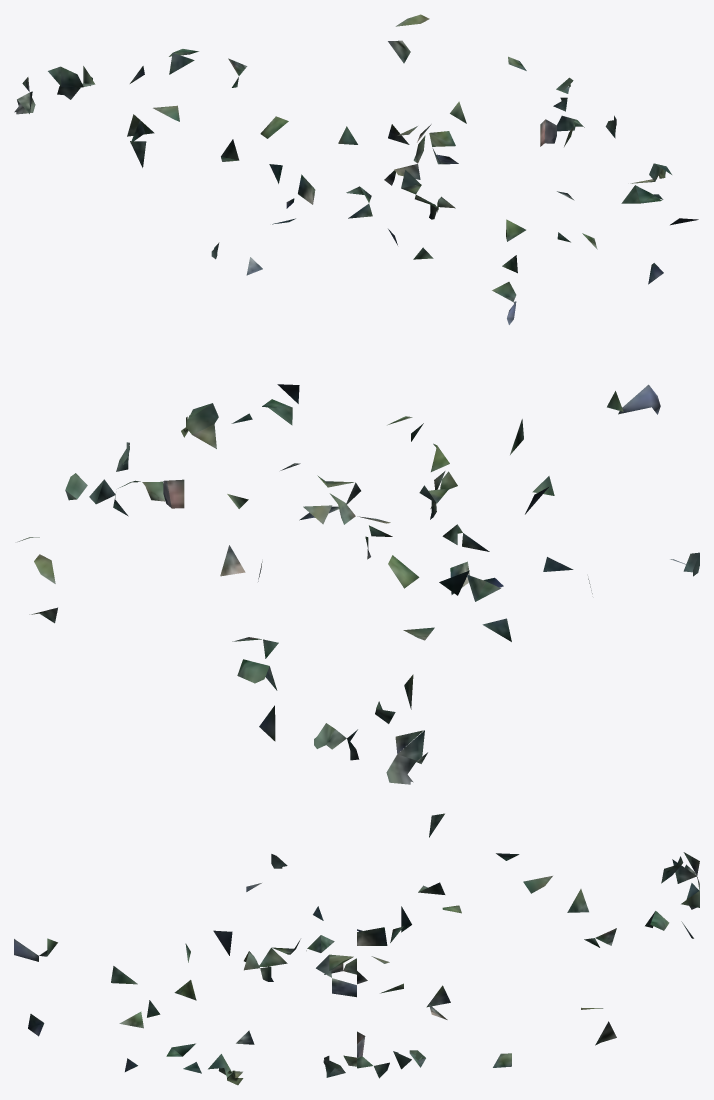
3 views of the same model, one above another, from view 1: azimuth 30°, elevation 25°; view 2: azimuth 150°, elevation 25°; view 3: azimuth 270°, elevation 25° (orthographic). The views are drawn at different scales.
Parts seen in each view (by area): view 1: 304362727043616377_1; view 2: 304362727043616377_1; view 3: 304362727043616377_1.
Boxes of the visible parts, box(x1,y1,x2,y2) form: 304362727043616377_1: box(14, 14, 698, 324); 304362727043616377_1: box(18, 384, 699, 784); 304362727043616377_1: box(14, 813, 699, 1085).
Size of the model in its own units: 109 by 18.47 by 153.
1 material, 1 textured.
